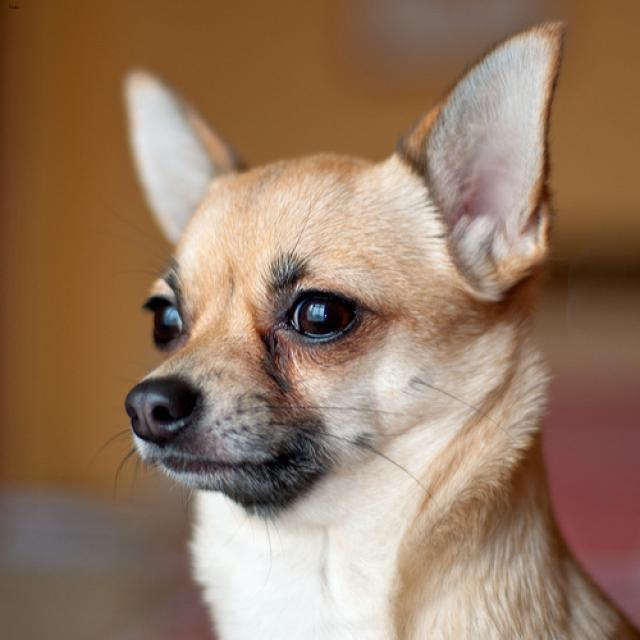dog-chihuahua: (76, 12, 637, 637)
